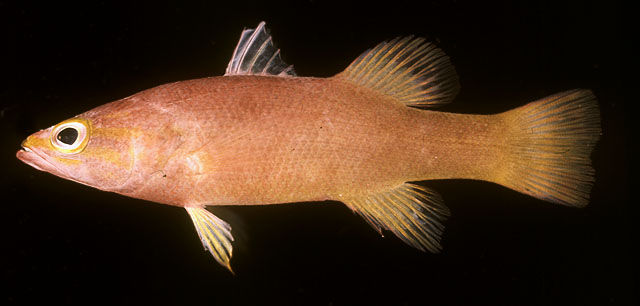fish: (16, 21, 603, 277)
